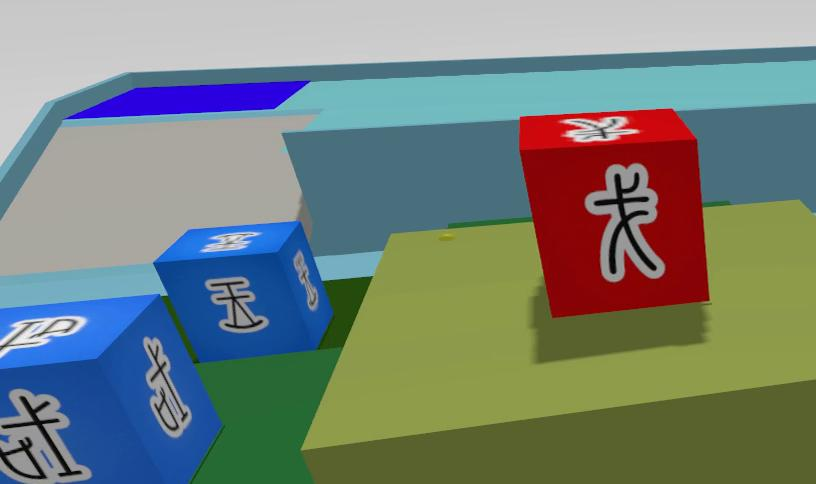KFS_FAKE: (519, 110, 708, 315), (585, 165, 664, 282), (559, 116, 639, 142)
KFS_REAL: (0, 295, 221, 484), (154, 221, 332, 361), (0, 389, 89, 484), (143, 337, 192, 437), (0, 315, 87, 357), (204, 278, 267, 332)
